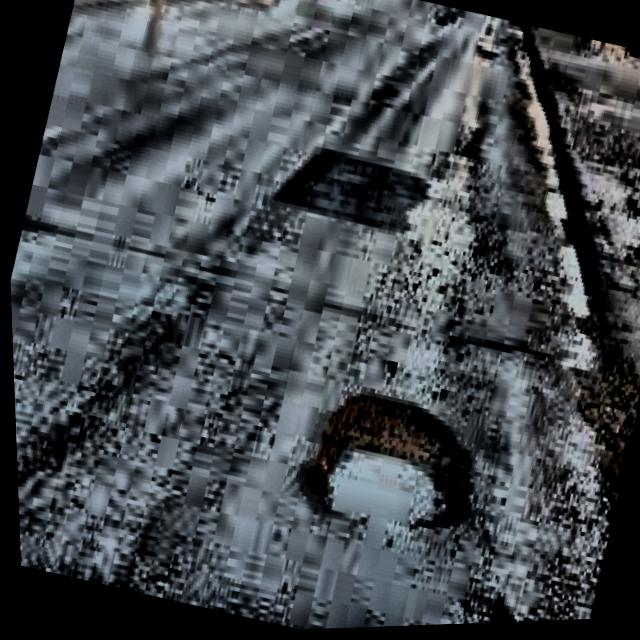pothole: (302, 393, 469, 526)
